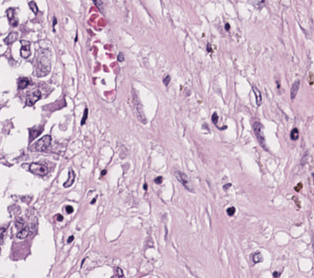nucleus: (33, 48, 51, 76), (132, 90, 146, 123), (252, 121, 266, 148), (175, 171, 192, 191), (33, 135, 50, 150), (26, 89, 41, 105), (29, 163, 47, 175), (6, 8, 17, 26), (63, 169, 74, 186), (252, 86, 261, 105), (20, 40, 30, 57), (4, 32, 17, 44), (17, 226, 28, 238), (18, 77, 29, 88), (30, 129, 40, 140), (28, 1, 37, 13), (15, 218, 24, 229), (81, 108, 87, 124), (163, 75, 170, 85), (227, 207, 235, 215), (93, 0, 103, 6), (154, 176, 162, 183), (212, 113, 217, 124), (117, 52, 123, 61), (223, 183, 230, 189), (67, 235, 73, 242), (276, 79, 280, 89), (66, 206, 72, 212), (56, 214, 62, 220), (224, 23, 229, 30), (91, 197, 96, 203), (207, 44, 211, 51), (53, 17, 56, 26), (143, 183, 147, 189), (101, 170, 105, 175)
